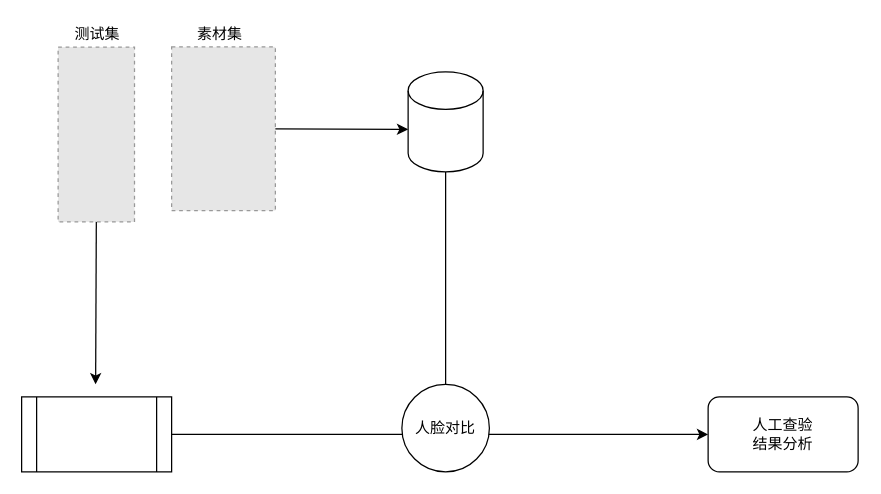
This 881x494 diagram has some shape labels left out. Grey dashed boxes stand in for pictures. The centre of each missing label's shape, as x and y in pixels:
"Database" goes at (x=445, y=121).
"根据API文档编写脚本批量测试" goes at (x=96, y=434).
